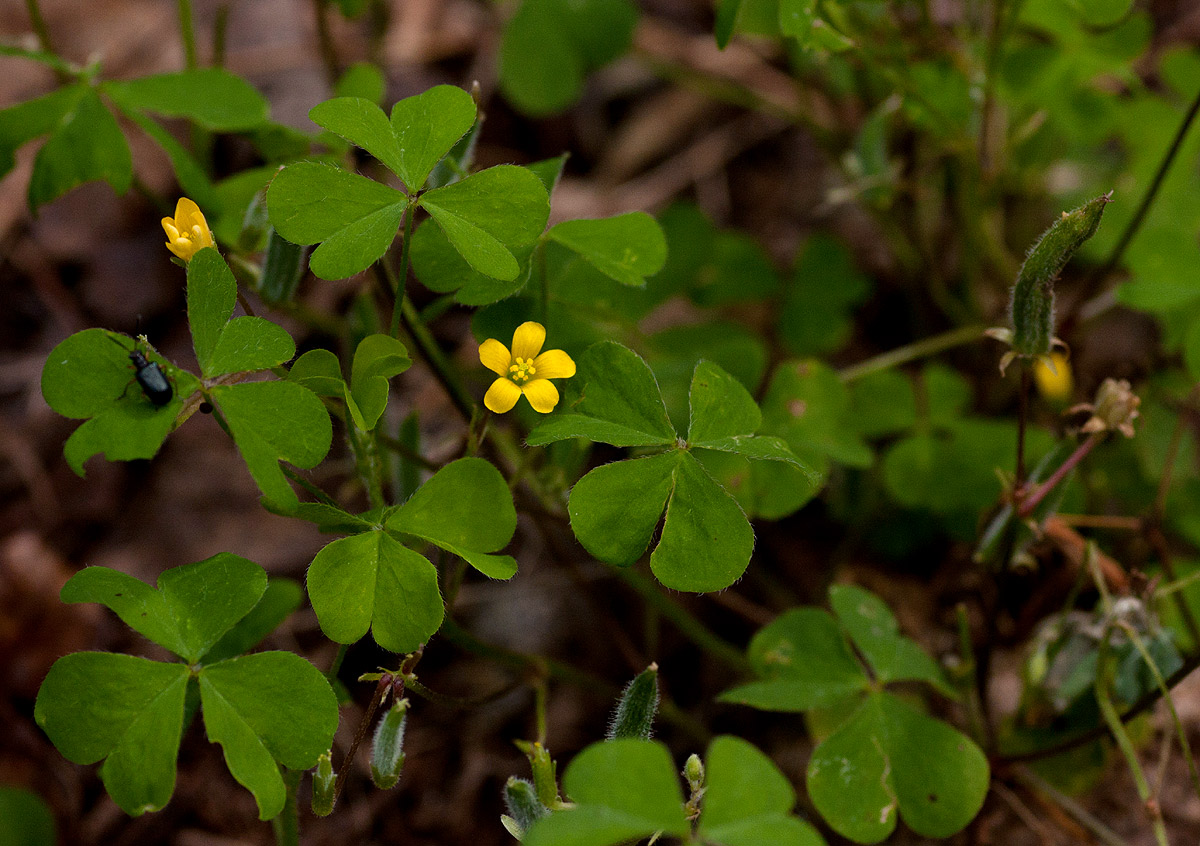oxalis: (36, 567, 367, 846), (492, 679, 1001, 846), (569, 340, 838, 636), (74, 277, 335, 531), (281, 81, 549, 283)
